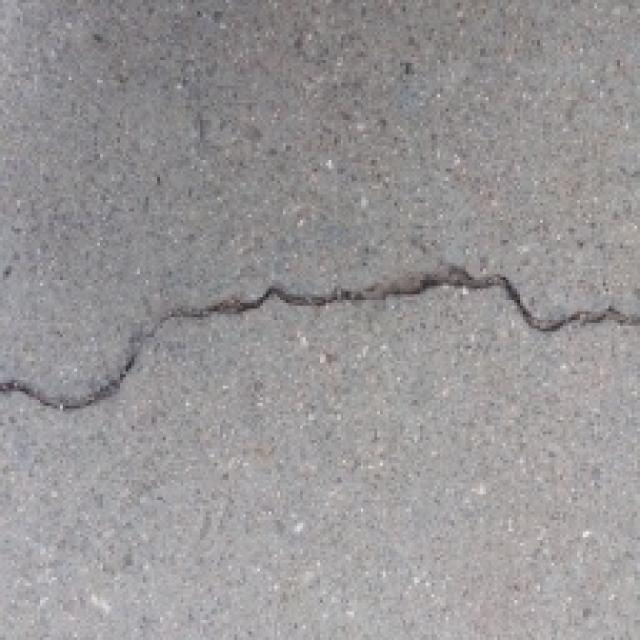crack: (0, 252, 640, 432)
